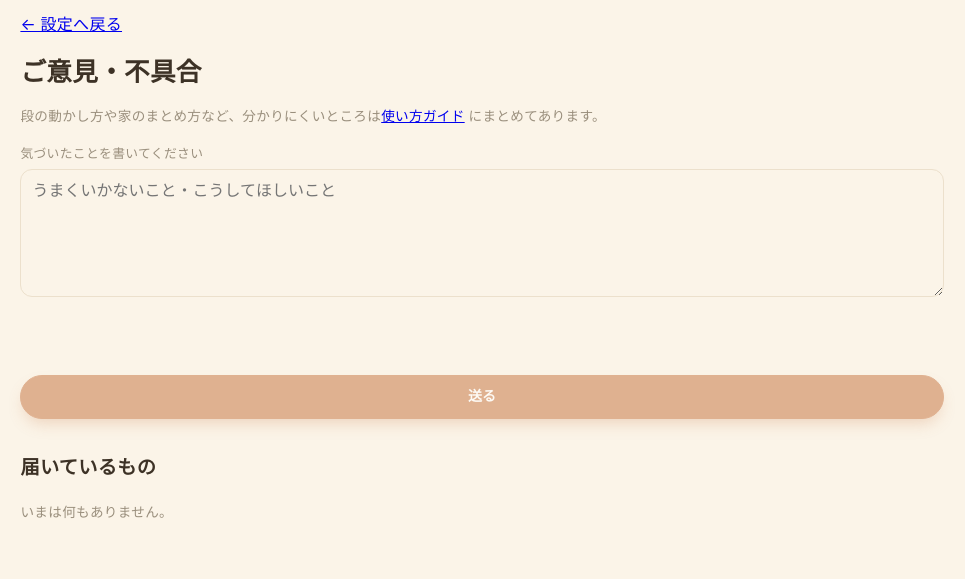
FeedbackPage › 書いて送ると、本文だけを渡す（種類は選ばせない）
Type "ここが押しにくい" into the text box.
click(482, 233); type("ここが押しにくい")  # box [20, 169, 944, 297]
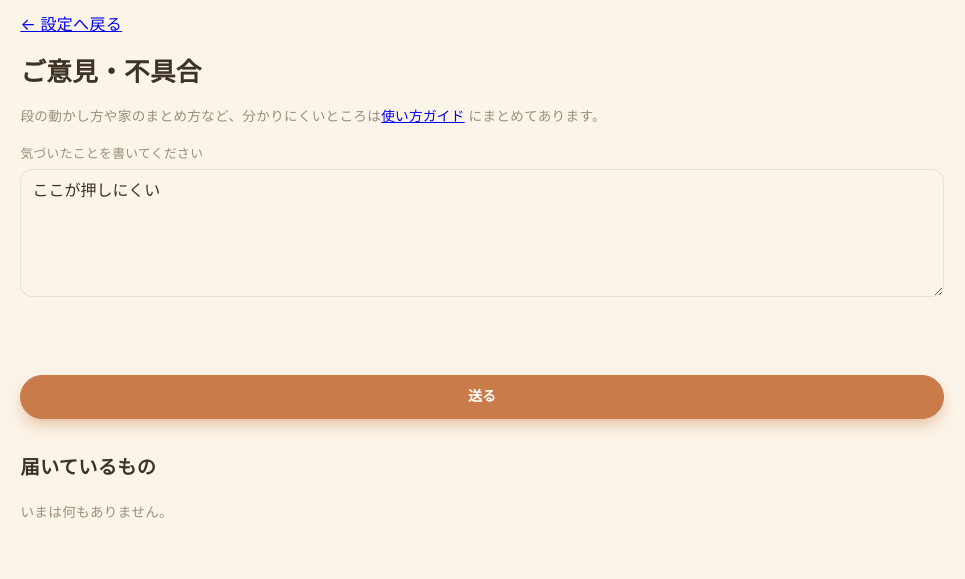
Click the button "送る".
click(482, 397)  # box [20, 375, 944, 419]
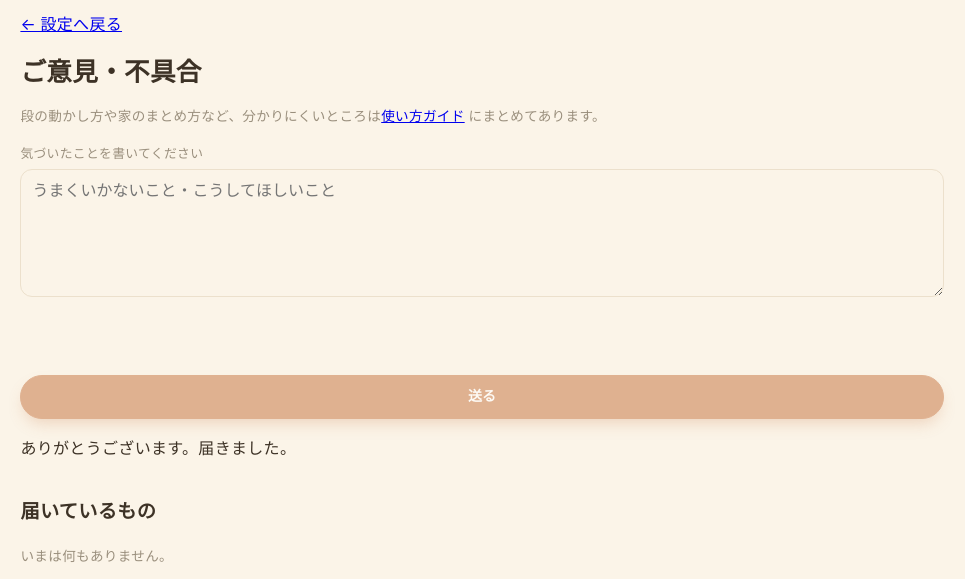
Check: the text "ありがとうございます。届きました。" is shown, box [20, 438, 296, 460]
